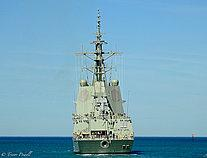MIL_Ship: (70, 6, 138, 154)
